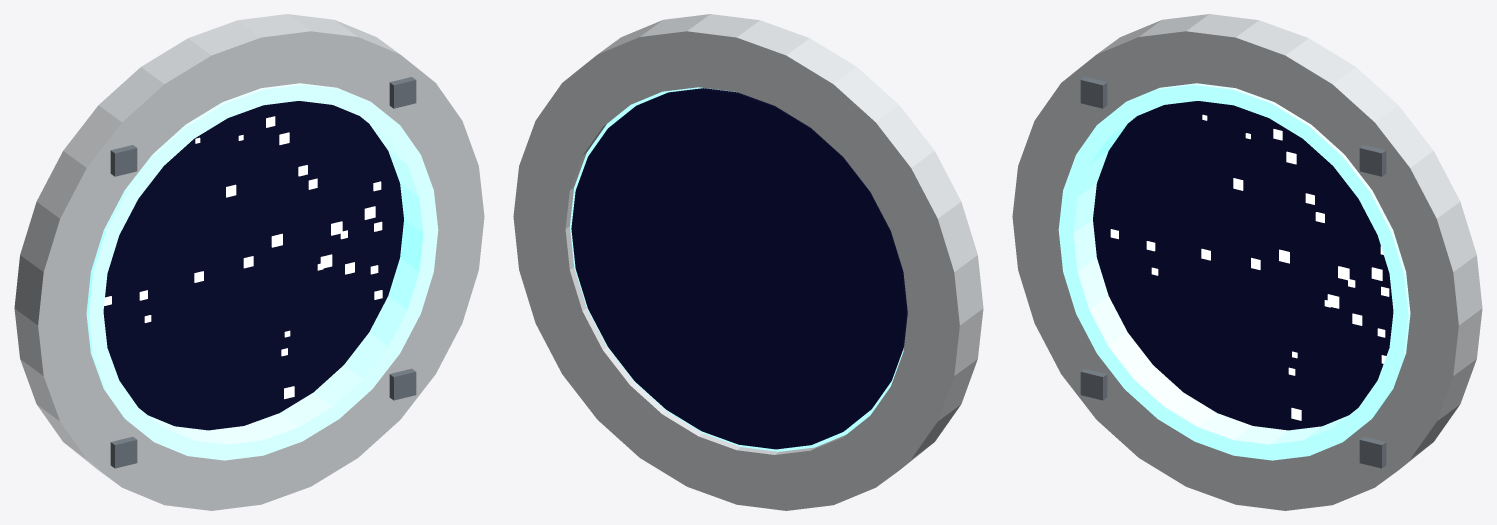
Rendered from os_viewport.glb.
3 renders of one model, left to right at view 1: azimuth 30°, elevation 25°; view 2: azimuth 150°, elevation 25°; view 3: azimuth 330°, elevation 25°, orthographic.
Visible parts, largest first — view 1: os_viewport; view 2: os_viewport; view 3: os_viewport.
Boxes of the visible parts, x1,y1,x2,y2 form: os_viewport: [14, 14, 484, 510]; os_viewport: [513, 14, 983, 510]; os_viewport: [1012, 14, 1482, 510].
Bounding box in the file's own units: 2.4 × 2.4 × 0.26.
